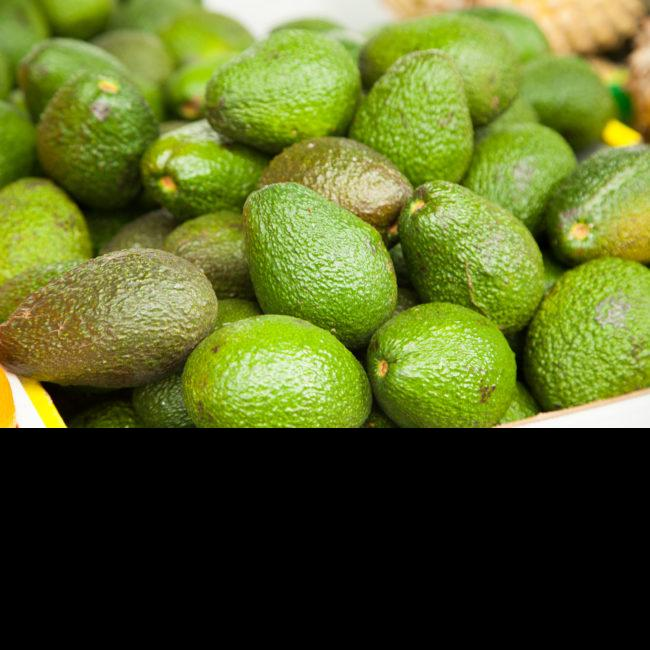almost: (257, 136, 414, 232), (119, 248, 219, 387), (164, 211, 253, 300)
unripe: (242, 181, 398, 351), (398, 179, 545, 336), (181, 314, 372, 427), (202, 28, 360, 151), (366, 302, 516, 428), (357, 14, 521, 125), (348, 50, 474, 189), (523, 257, 633, 413), (140, 118, 276, 219), (459, 122, 580, 234), (544, 147, 631, 266), (522, 55, 612, 147), (163, 11, 257, 64), (163, 63, 224, 121)
